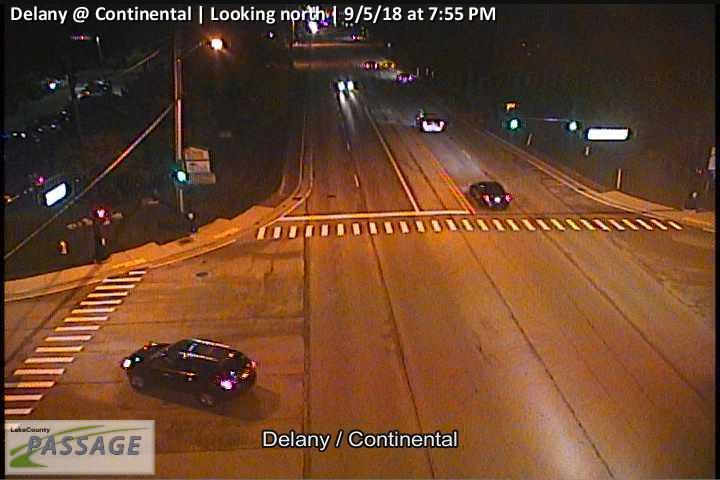SUV: (122, 339, 257, 409), (470, 181, 511, 210), (418, 112, 447, 134)
